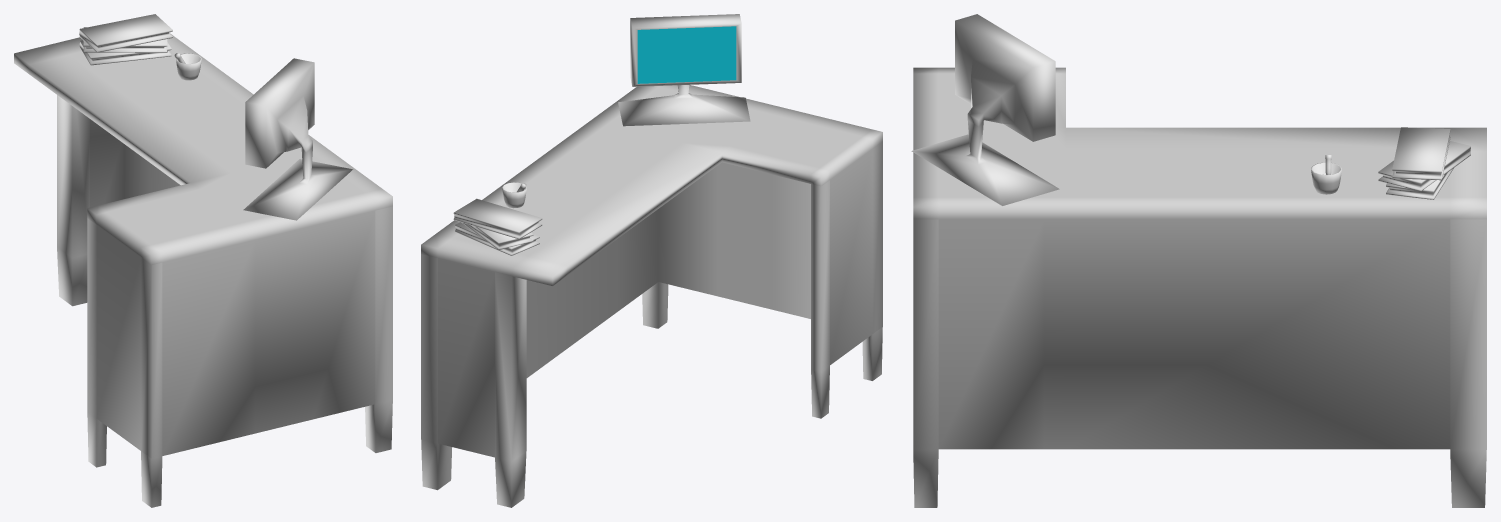
The model's file is MesaProfe.fbx.
The picture shows the model from 3 angles, left to right: view 1: azimuth 30°, elevation 25°; view 2: azimuth 150°, elevation 25°; view 3: azimuth 270°, elevation 25°; orthographic projection. The views are drawn at different scales.
Parts seen in each view (by area): view 1: Mesa, Monitor, Libro003, Libro002, Libro1, Taza001; view 2: Mesa, Monitor, Libro003, Libro1, Libro002, Taza001; view 3: Mesa, Monitor, Libro003, Libro1, Taza001, Libro002.
Part boxes in pixels (<box>): Mesa: <box>14,33,392,507</box>; Monitor: <box>243,58,352,220</box>; Libro003: <box>79,14,172,52</box>; Libro002: <box>79,40,171,65</box>; Libro1: <box>83,27,167,52</box>; Taza001: <box>176,53,201,80</box>; Mesa: <box>421,85,882,507</box>; Monitor: <box>618,14,750,126</box>; Libro003: <box>453,198,542,239</box>; Libro1: <box>461,222,533,249</box>; Libro002: <box>455,222,539,255</box>; Taza001: <box>502,182,526,208</box>; Mesa: <box>913,67,1486,507</box>; Monitor: <box>911,14,1059,205</box>; Libro003: <box>1392,127,1450,180</box>; Libro1: <box>1378,141,1470,191</box>; Taza001: <box>1311,162,1341,194</box>; Libro002: <box>1386,168,1453,199</box>.
Bounding box in the file's own units: 509 × 719 × 884.
